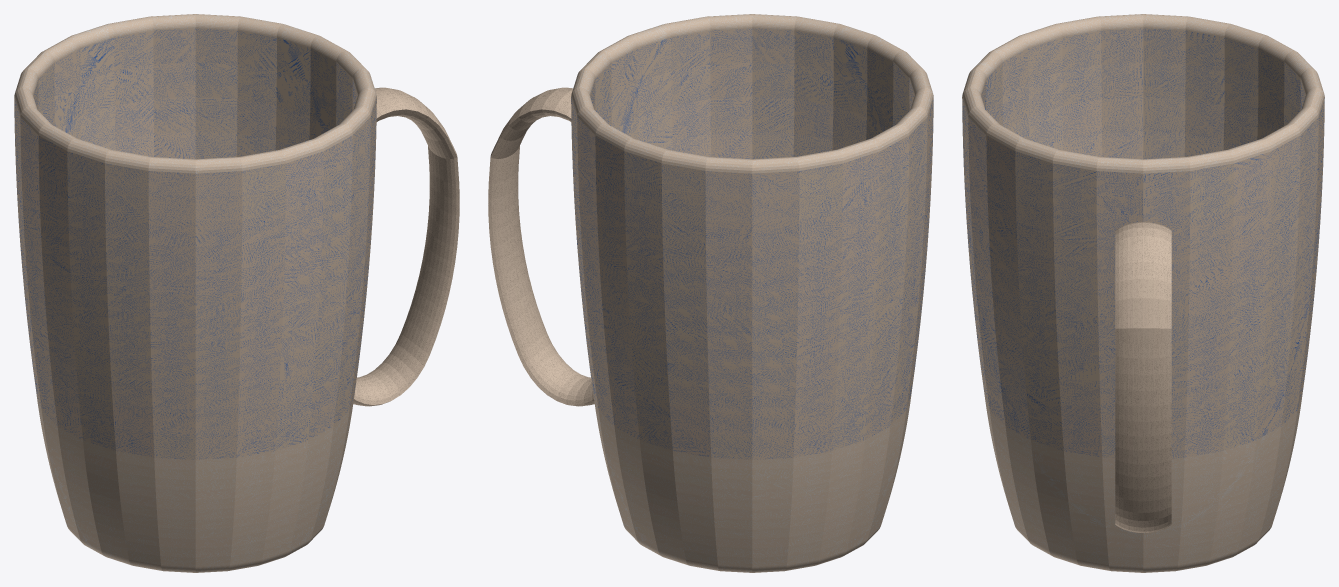
3 renders of one model, left to right at view 1: azimuth 30°, elevation 25°; view 2: azimuth 150°, elevation 25°; view 3: azimuth 270°, elevation 25°, orthographic.
Visible parts, largest first — view 1: mesh1_mesh1-geometry; view 2: mesh1_mesh1-geometry; view 3: mesh1_mesh1-geometry.
Boxes of the visible parts, x1,y1,x2,y2 form: mesh1_mesh1-geometry: [14, 14, 459, 572]; mesh1_mesh1-geometry: [488, 14, 933, 572]; mesh1_mesh1-geometry: [962, 14, 1324, 572].
Size of the model in its own units: 0.6211 by 0.6248 by 0.4731.
